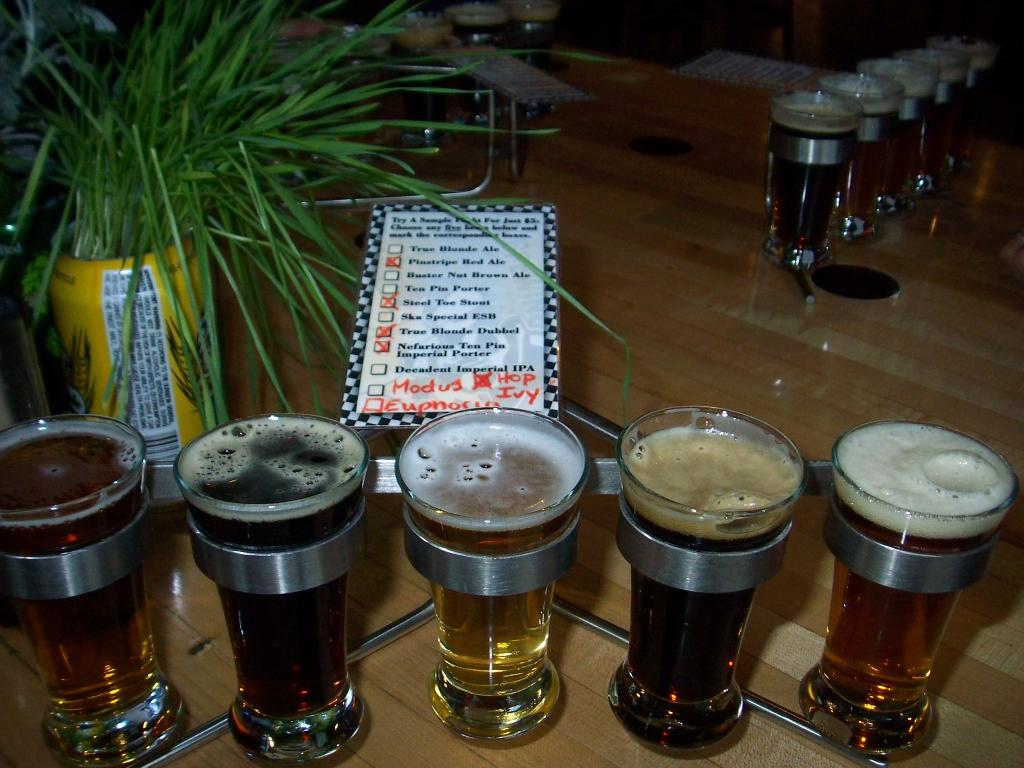Beer: (609, 394, 811, 751), (175, 395, 369, 758), (817, 426, 1023, 763), (389, 397, 584, 732), (0, 421, 188, 767), (757, 44, 1020, 273)
